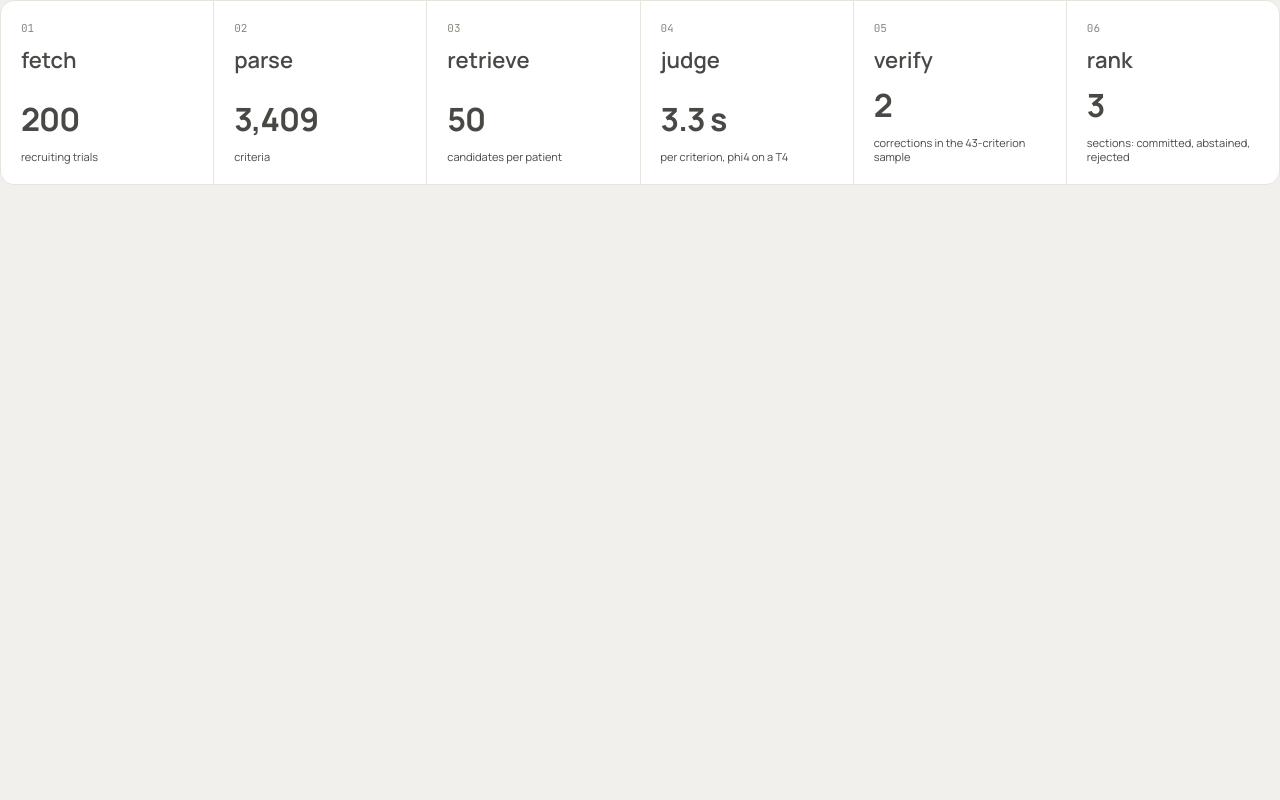
Test: Pipeline › opens the drawer with the stage's input and output when a stage is clicked
Click the button "03 retrieve 50 candidates per patient".
click(533, 93)  # box [427,1,640,184]
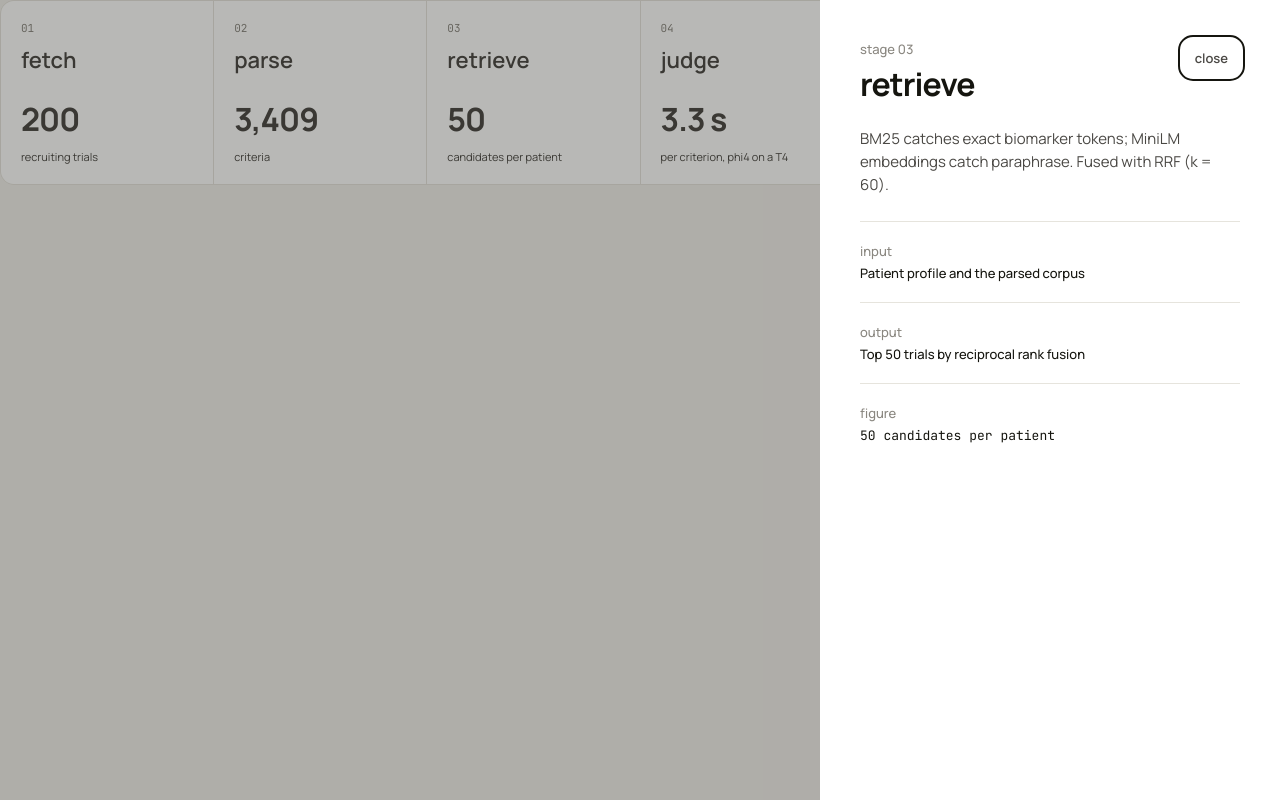
Result: the dialog "retrieve" shows "Patient profile and the parsed corpus" at [860,264,1085,282]
Result: the dialog "retrieve" shows "Top 50 trials by reciprocal rank fusion" at [860,345,1085,363]
